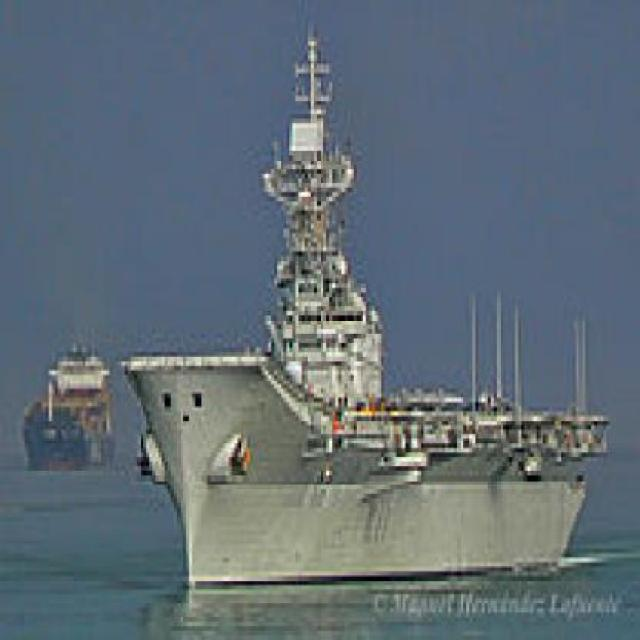warship2: (156, 15, 638, 627)
